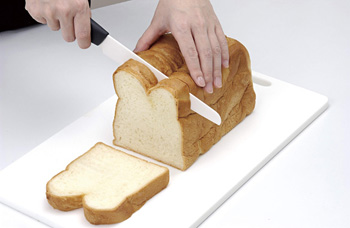slice of bread: (46, 148, 166, 220), (112, 71, 187, 175)
